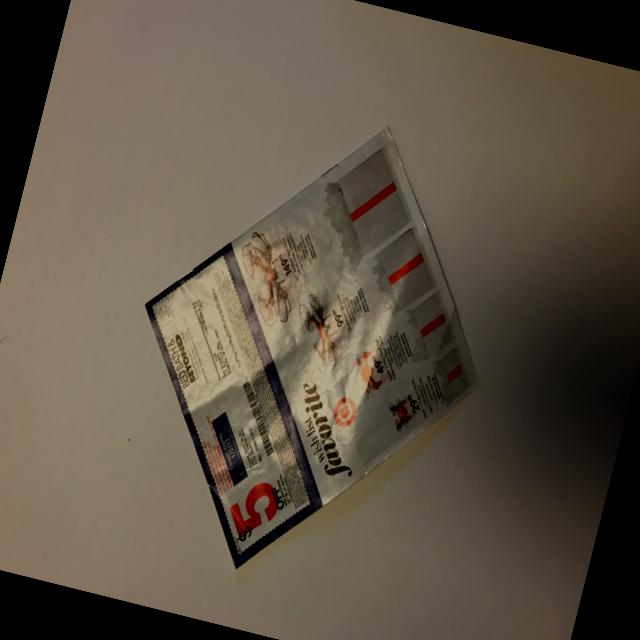Paper: (76, 53, 550, 626)
